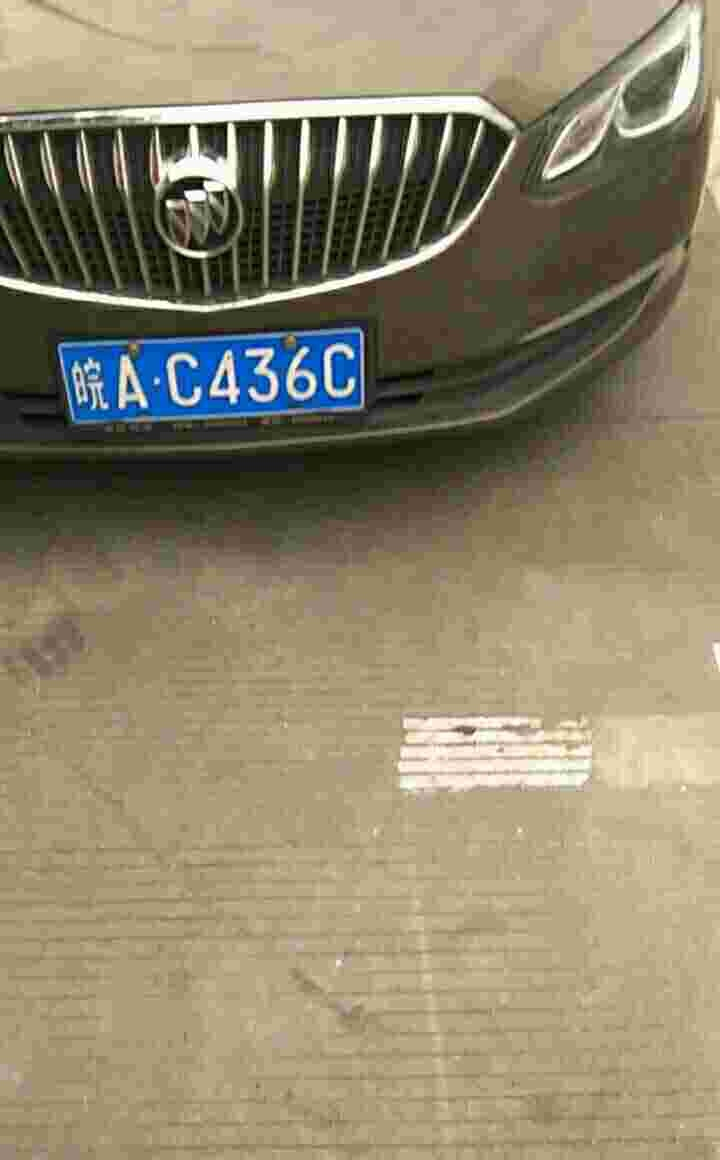license_plate: (52, 329, 362, 407)
